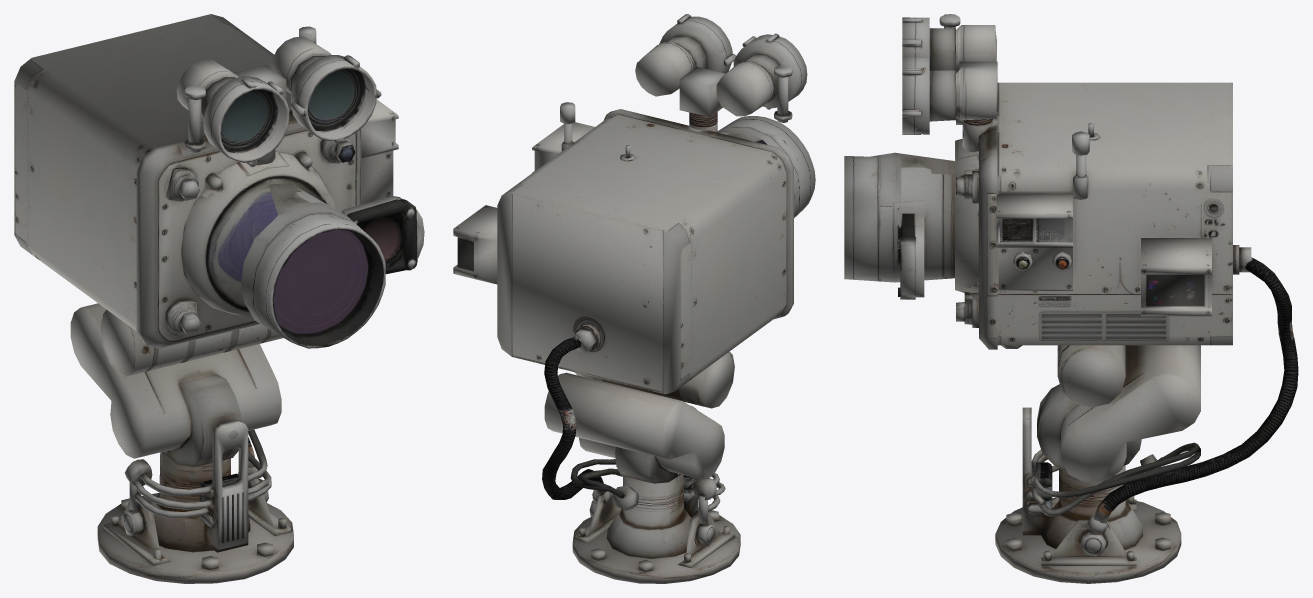
The model's file is 019ead4c-3cc9-7395-9b90-35b822ddf0d8.glb.
The picture shows the model from 3 angles, left to right: view 1: azimuth 30°, elevation 25°; view 2: azimuth 150°, elevation 25°; view 3: azimuth 270°, elevation 25°; orthographic projection. The views are drawn at different scales.
Visible parts, largest first — view 1: tripo_node_70c13d29-9efe-43da-8608-926d9378f6d0; view 2: tripo_node_70c13d29-9efe-43da-8608-926d9378f6d0; view 3: tripo_node_70c13d29-9efe-43da-8608-926d9378f6d0.
Part boxes in pixels (box(x1,y1,x2,y2)): tripo_node_70c13d29-9efe-43da-8608-926d9378f6d0: box(14, 14, 424, 583); tripo_node_70c13d29-9efe-43da-8608-926d9378f6d0: box(453, 14, 815, 583); tripo_node_70c13d29-9efe-43da-8608-926d9378f6d0: box(844, 14, 1298, 583).
Bounding box in the file's own units: 0.541 × 0.998 × 0.8105.
Materials: 1 (1 with a texture image).
